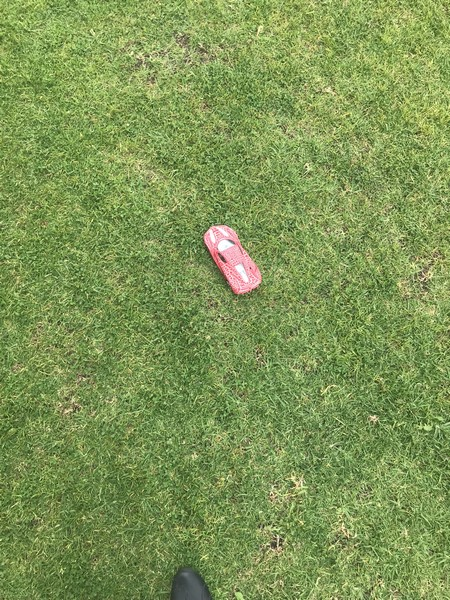RC: (202, 224, 266, 298)
